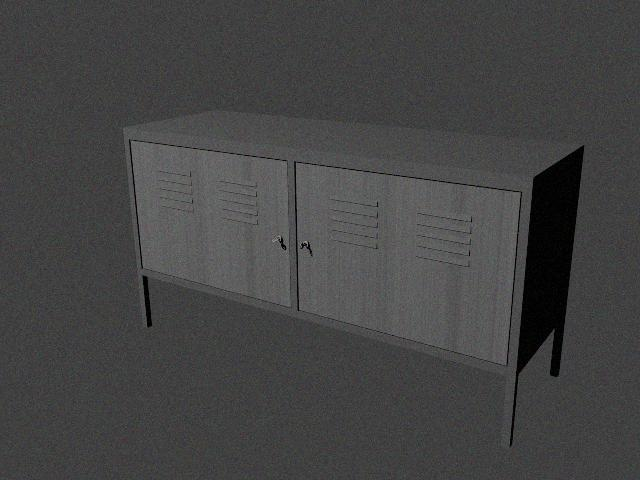cabinet_door: (297, 177, 514, 338), (137, 150, 289, 288)
